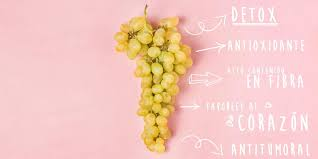Green grapes: (123, 14, 180, 156)
